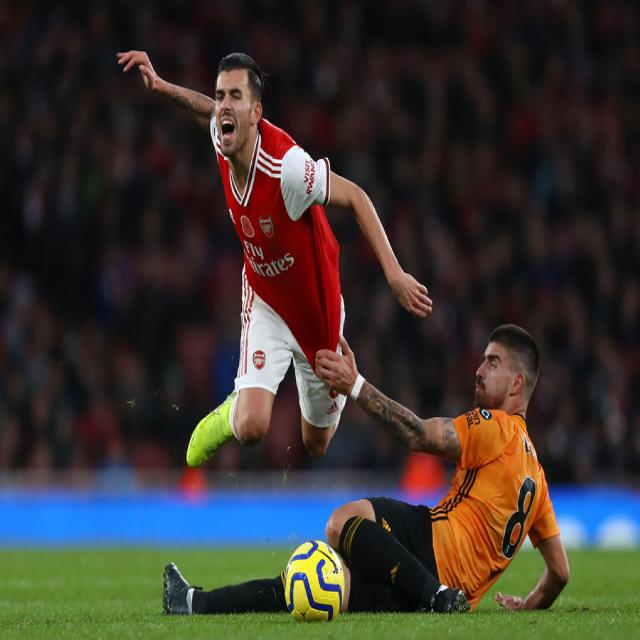collide: (313, 325, 375, 384)
hurt: (209, 53, 267, 158)
red_card: (69, 18, 572, 613)
